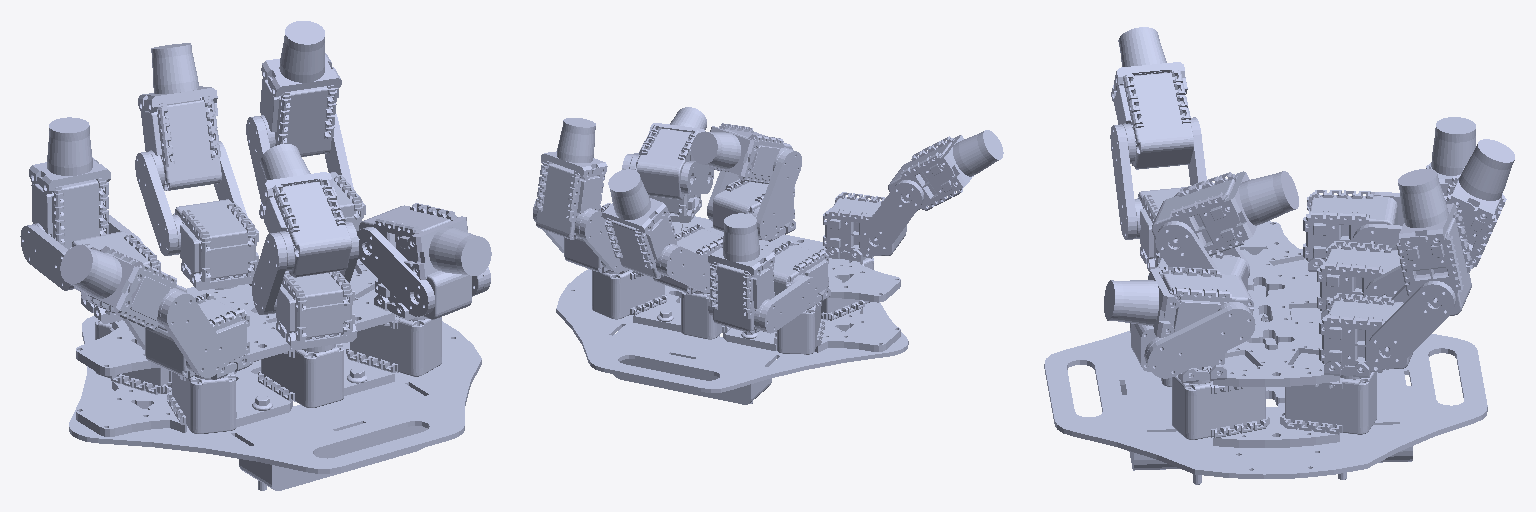
--- What the picture shows (computed from the rendered views, not written in the file) ---
3 views of the same robot in one strip: view 1: azimuth 30°, elevation 25°; view 2: azimuth 150°, elevation 25°; view 3: azimuth 270°, elevation 25° (orthographic).
Model Coba_robot with 19 links and 18 joints (5 continuous, 13 fixed), rooted at base_link, posed every joint at zero.
Visible links, largest first — view 1: base_link, Kaki 5_3, Kaki 5_2, Kaki 2_3, Kaki 4_3, Kaki 6_3, Kaki 1_2, Kaki_2_1, Kaki 1_3, Kaki 3_3, Kaki 3_2, Kaki 2 (+6 smaller); view 2: base_link, Kaki 4_3, Kaki 6_3, Kaki 5_3, Kaki 1_2, Kaki 1_3, Kaki_2_1, Kaki 6_2, Kaki 3_3, Kaki 2_3, Kaki 5_2, Kaki 4 (+5 smaller); view 3: base_link, Kaki 1_3, Kaki 4_2, Kaki 2_3, Kaki 4_3, Kaki 3_3, Kaki 3, Kaki 4, Kaki 6_2, Kaki 3_2, Kaki 5_3, Kaki 5_2 (+4 smaller).
Link boxes in pixels (bbox=[...]): base_link: bbox=[69, 258, 481, 490]; Kaki 5_3: bbox=[138, 43, 221, 190]; Kaki 5_2: bbox=[135, 141, 258, 282]; Kaki 2_3: bbox=[259, 144, 351, 277]; Kaki 4_3: bbox=[260, 21, 341, 156]; Kaki 6_3: bbox=[29, 117, 110, 249]; Kaki 1_2: bbox=[123, 291, 249, 377]; Kaki_2_1: bbox=[252, 222, 358, 341]; Kaki 1_3: bbox=[60, 245, 186, 330]; Kaki 3_3: bbox=[359, 203, 491, 279]; Kaki 3_2: bbox=[357, 205, 490, 319]; Kaki 2: bbox=[258, 320, 356, 407]; base_link: bbox=[556, 216, 908, 404]; Kaki 4_3: bbox=[535, 118, 607, 239]; Kaki 6_3: bbox=[708, 213, 774, 333]; Kaki 5_3: bbox=[602, 169, 677, 278]; Kaki 1_2: bbox=[823, 180, 923, 257]; Kaki 1_3: bbox=[888, 130, 1003, 210]; Kaki_2_1: bbox=[707, 149, 801, 240]; Kaki 6_2: bbox=[708, 240, 828, 333]; Kaki 3_3: bbox=[629, 107, 706, 199]; Kaki 2_3: bbox=[691, 123, 792, 183]; Kaki 5_2: bbox=[618, 223, 722, 293]; Kaki 4: bbox=[592, 268, 666, 319]; base_link: bbox=[1044, 221, 1487, 484]; Kaki 1_3: bbox=[1111, 27, 1193, 169]; Kaki 4_2: bbox=[1319, 262, 1469, 372]; Kaki 2_3: bbox=[1152, 171, 1298, 255]; Kaki 4_3: bbox=[1396, 169, 1472, 315]; Kaki 3_3: bbox=[1104, 266, 1253, 337]; Kaki 3: bbox=[1172, 355, 1269, 439]; Kaki 4: bbox=[1280, 353, 1376, 434]; Kaki 6_2: bbox=[1303, 190, 1403, 263]; Kaki 3_2: bbox=[1130, 274, 1255, 378]; Kaki 5_3: bbox=[1444, 139, 1514, 267]; Kaki 5_2: bbox=[1317, 241, 1407, 311].
Size in the robot's own frame: 0.2885 by 0.2592 by 0.2051 metres.
Meshes: 19 distinct files referenced, 19 mesh visuals loaded (19 binary STL).

URDF robot description (Coba_robot):
<?xml version="1.0" encoding="utf-8"?>
<!-- This URDF was automatically created by SolidWorks to URDF Exporter! Originally created by Stephen Brawner ([email redacted]) 
     Commit Version: 1.6.0-1-g15f4949  Build Version: 1.6.7594.29634
     For more information, please see http://wiki.ros.org/sw_urdf_exporter -->
<robot
  name="Coba_robot">
  <link
    name="base_link">
    <inertial>
      <origin
        xyz="0.0955210088112188 0.128829739596271 -0.111510795146166"
        rpy="0 0 0" />
      <mass
        value="0.374618332010128" />
      <inertia
        ixx="0.000448929556780063"
        ixy="-2.04455997946797E-15"
        ixz="2.97490932378823E-05"
        iyy="0.00126371737945785"
        iyz="7.8173467267558E-16"
        izz="0.000835575872446296" />
    </inertial>
    <visual>
      <origin
        xyz="0 0 0"
        rpy="0 0 0" />
      <geometry>
        <mesh
          filename="package://Coba_robot/meshes/base_link.STL" />
      </geometry>
      <material
        name="">
        <color
          rgba="0.792156862745098 0.819607843137255 0.933333333333333 1" />
      </material>
    </visual>
    <collision>
      <origin
        xyz="0 0 0"
        rpy="0 0 0" />
      <geometry>
        <mesh
          filename="package://Coba_robot/meshes/base_link.STL" />
      </geometry>
    </collision>
  </link>
  <link
    name="Kaki 1">
    <inertial>
      <origin
        xyz="0.0117264096319723 -1.0687480350921E-06 -0.0162238731352485"
        rpy="0 0 0" />
      <mass
        value="0.0459766729637116" />
      <inertia
        ixx="3.80908959439166E-06"
        ixy="1.13405655437806E-07"
        ixz="2.9516492743732E-08"
        iyy="9.12735150093024E-06"
        iyz="-1.12615456063392E-10"
        izz="1.06463676928076E-05" />
    </inertial>
    <visual>
      <origin
        xyz="0 0 0"
        rpy="0 0 0" />
      <geometry>
        <mesh
          filename="package://Coba_robot/meshes/Kaki 1.STL" />
      </geometry>
      <material
        name="">
        <color
          rgba="0.792156862745098 0.819607843137255 0.933333333333333 1" />
      </material>
    </visual>
    <collision>
      <origin
        xyz="0 0 0"
        rpy="0 0 0" />
      <geometry>
        <mesh
          filename="package://Coba_robot/meshes/Kaki 1.STL" />
      </geometry>
    </collision>
  </link>
  <joint
    name="11"
    type="fixed">
    <origin
      xyz="0.0313968730221693 0.0637515761987747 0.138225076212438"
      rpy="3.14159265358979 0 1.29804330499791" />
    <parent
      link="base_link" />
    <child
      link="Kaki 1" />
    <axis
      xyz="0 0 0" />
  </joint>
  <link
    name="Kaki 1_2">
    <inertial>
      <origin
        xyz="0.00720663762632177 0.00388241641337603 0.00166600998765189"
        rpy="0 0 0" />
      <mass
        value="0.0550012449425468" />
      <inertia
        ixx="6.15632429667315E-06"
        ixy="1.41064633745967E-06"
        ixz="-2.95775598117591E-08"
        iyy="1.01627471260802E-05"
        iyz="8.19605559848041E-15"
        izz="1.3999303699423E-05" />
    </inertial>
    <visual>
      <origin
        xyz="0 0 0"
        rpy="0 0 0" />
      <geometry>
        <mesh
          filename="package://Coba_robot/meshes/Kaki 1_2.STL" />
      </geometry>
      <material
        name="">
        <color
          rgba="0.792156862745098 0.819607843137255 0.933333333333333 1" />
      </material>
    </visual>
    <collision>
      <origin
        xyz="0 0 0"
        rpy="0 0 0" />
      <geometry>
        <mesh
          filename="package://Coba_robot/meshes/Kaki 1_2.STL" />
      </geometry>
    </collision>
  </link>
  <joint
    name="12"
    type="fixed">
    <origin
      xyz="-0.0108401188099666 -0.0200013580608149 -0.0532499999982003"
      rpy="-1.57079632679489 0 1.07413974500931" />
    <parent
      link="Kaki 1" />
    <child
      link="Kaki 1_2" />
    <axis
      xyz="0 0 0" />
  </joint>
  <link
    name="Kaki 1_3">
    <inertial>
      <origin
        xyz="0.0219631417411719 -8.28462301531718E-07 0.000895982205306671"
        rpy="0 0 0" />
      <mass
        value="0.0569382188830977" />
      <inertia
        ixx="4.97477859840598E-06"
        ixy="-1.38076293275694E-10"
        ixz="-2.95782821506786E-08"
        iyy="1.01414200280578E-05"
        iyz="9.09661102242449E-15"
        izz="1.11481951911747E-05" />
    </inertial>
    <visual>
      <origin
        xyz="0 0 0"
        rpy="0 0 0" />
      <geometry>
        <mesh
          filename="package://Coba_robot/meshes/Kaki 1_3.STL" />
      </geometry>
      <material
        name="">
        <color
          rgba="0.792156862745098 0.819607843137255 0.933333333333333 1" />
      </material>
    </visual>
    <collision>
      <origin
        xyz="0 0 0"
        rpy="0 0 0" />
      <geometry>
        <mesh
          filename="package://Coba_robot/meshes/Kaki 1_3.STL" />
      </geometry>
    </collision>
  </link>
  <joint
    name="13"
    type="continuous">
    <origin
      xyz="-0.0233544016161321 0.0349080495752942 0"
      rpy="0 0 1.83013105284461" />
    <parent
      link="Kaki 1_2" />
    <child
      link="Kaki 1_3" />
    <axis
      xyz="0 0 1" />
  </joint>
  <link
    name="Kaki 2">
    <inertial>
      <origin
        xyz="0.0117281719901688 -3.20169534495651E-07 -0.0107761271901022"
        rpy="0 0 0" />
      <mass
        value="0.045976673740398" />
      <inertia
        ixx="4.00034324518149E-06"
        ixy="-6.74083314669933E-08"
        ixz="-2.97013283241805E-08"
        iyy="8.93609800445544E-06"
        iyz="3.30135871801989E-11"
        izz="1.06463678356939E-05" />
    </inertial>
    <visual>
      <origin
        xyz="0 0 0"
        rpy="0 0 0" />
      <geometry>
        <mesh
          filename="package://Coba_robot/meshes/Kaki 2.STL" />
      </geometry>
      <material
        name="">
        <color
          rgba="0.792156862745098 0.819607843137255 0.933333333333333 1" />
      </material>
    </visual>
    <collision>
      <origin
        xyz="0 0 0"
        rpy="0 0 0" />
      <geometry>
        <mesh
          filename="package://Coba_robot/meshes/Kaki 2.STL" />
      </geometry>
    </collision>
  </link>
  <joint
    name="21"
    type="fixed">
    <origin
      xyz="0.0996549434093814 0.0651916390244269 0.165225076212438"
      rpy="0 0 1.64710915539677" />
    <parent
      link="base_link" />
    <child
      link="Kaki 2" />
    <axis
      xyz="0 0 0" />
  </joint>
  <link
    name="Kaki_2_1">
    <inertial>
      <origin
        xyz="0.0136236802209293 0.00268598866703232 0.00166600984116806"
        rpy="0 0 0" />
      <mass
        value="0.0550012454240305" />
      <inertia
        ixx="5.05863921841792E-06"
        ixy="-1.43626145191625E-06"
        ixz="-2.95775653466656E-08"
        iyy="1.1260432298044E-05"
        iyz="7.22686350663354E-15"
        izz="1.39993037941083E-05" />
    </inertial>
    <visual>
      <origin
        xyz="0 0 0"
        rpy="0 0 0" />
      <geometry>
        <mesh
          filename="package://Coba_robot/meshes/Kaki_2_1.STL" />
      </geometry>
      <material
        name="">
        <color
          rgba="0.792156862745098 0.819607843137255 0.933333333333333 1" />
      </material>
    </visual>
    <collision>
      <origin
        xyz="0 0 0"
        rpy="0 0 0" />
      <geometry>
        <mesh
          filename="package://Coba_robot/meshes/Kaki_2_1.STL" />
      </geometry>
    </collision>
  </link>
  <joint
    name="22"
    type="fixed">
    <origin
      xyz="0.0219816543840897 -0.00586253960578838 0.0262499999982"
      rpy="1.5707963267949 0 2.88095776656319" />
    <parent
      link="Kaki 2" />
    <child
      link="Kaki_2_1" />
    <axis
      xyz="0 0 0" />
  </joint>
  <link
    name="Kaki 2_3">
    <inertial>
      <origin
        xyz="-0.0111263882592733 0.0189357412488982 -0.0198540164373166"
        rpy="0 0 0" />
      <mass
        value="0.0569382191379837" />
      <inertia
        ixx="8.81508569138267E-06"
        ixy="2.2568853942459E-06"
        ixz="1.49852435608981E-08"
        iyy="6.301113028032E-06"
        iyz="-2.55004193536201E-08"
        izz="1.11481953070983E-05" />
    </inertial>
    <visual>
      <origin
        xyz="0 0 0"
        rpy="0 0 0" />
      <geometry>
        <mesh
          filename="package://Coba_robot/meshes/Kaki 2_3.STL" />
      </geometry>
      <material
        name="">
        <color
          rgba="0.792156862745098 0.819607843137255 0.933333333333333 1" />
      </material>
    </visual>
    <collision>
      <origin
        xyz="0 0 0"
        rpy="0 0 0" />
      <geometry>
        <mesh
          filename="package://Coba_robot/meshes/Kaki 2_3.STL" />
      </geometry>
    </collision>
  </link>
  <joint
    name="23"
    type="fixed">
    <origin
      xyz="0.0343545625626959 0.0241620784495247 0.0207500000000003"
      rpy="0 0 0.612861006640973" />
    <parent
      link="Kaki_2_1" />
    <child
      link="Kaki 2_3" />
    <axis
      xyz="0 0 0" />
  </joint>
  <link
    name="Kaki 3">
    <inertial>
      <origin
        xyz="0.0117257955097682 2.43019542350842E-07 0.00272387295111298"
        rpy="0 0 0" />
      <mass
        value="0.0459766733747581" />
      <inertia
        ixx="4.00712748527306E-06"
        ixy="-5.38986916642589E-08"
        ixz="-2.94521265133506E-08"
        iyy="8.92931371121269E-06"
        iyz="-2.60437718435383E-11"
        izz="1.06463677855161E-05" />
    </inertial>
    <visual>
      <origin
        xyz="0 0 0"
        rpy="0 0 0" />
      <geometry>
        <mesh
          filename="package://Coba_robot/meshes/Kaki 3.STL" />
      </geometry>
      <material
        name="">
        <color
          rgba="0.792156862745098 0.819607843137255 0.933333333333333 1" />
      </material>
    </visual>
    <collision>
      <origin
        xyz="0 0 0"
        rpy="0 0 0" />
      <geometry>
        <mesh
          filename="package://Coba_robot/meshes/Kaki 3.STL" />
      </geometry>
    </collision>
  </link>
  <joint
    name="31"
    type="fixed">
    <origin
      xyz="0.167338472190558 0.0741458495231372 0.151725076212438"
      rpy="0 0 1.99617500579563" />
    <parent
      link="base_link" />
    <child
      link="Kaki 3" />
    <axis
      xyz="0 0 0" />
  </joint>
  <link
    name="Kaki 3_2">
    <inertial>
      <origin
        xyz="0.0120306630890009 -0.00449951658599376 -0.0130971697126351"
        rpy="0 0 0" />
      <mass
        value="0.0472026139173069" />
      <inertia
        ixx="5.63104552430371E-06"
        ixy="1.41905662757946E-06"
        ixz="-5.49872224279449E-09"
        iyy="8.85118438956662E-06"
        iyz="-8.64314375891294E-14"
        izz="1.22280015141294E-05" />
    </inertial>
    <visual>
      <origin
        xyz="0 0 0"
        rpy="0 0 0" />
      <geometry>
        <mesh
          filename="package://Coba_robot/meshes/Kaki 3_2.STL" />
      </geometry>
      <material
        name="">
        <color
          rgba="0.792156862745098 0.819607843137255 0.933333333333333 1" />
      </material>
    </visual>
    <collision>
      <origin
        xyz="0 0 0"
        rpy="0 0 0" />
      <geometry>
        <mesh
          filename="package://Coba_robot/meshes/Kaki 3_2.STL" />
      </geometry>
    </collision>
  </link>
  <joint
    name="32"
    type="fixed">
    <origin
      xyz="-0.0195298138586388 0.0178437347769987 0.0397499999982"
      rpy="-1.5707963267949 0 -0.204757195318116" />
    <parent
      link="Kaki 3" />
    <child
      link="Kaki 3_2" />
    <axis
      xyz="0 0 0" />
  </joint>
  <link
    name="Kaki 3_3">
    <inertial>
      <origin
        xyz="0.0219620052084269 1.23470630666866E-06 -0.0143959823159015"
        rpy="0 0 0" />
      <mass
        value="0.0569382191511846" />
      <inertia
        ixx="4.97477862013397E-06"
        ixy="1.37868115076886E-10"
        ixz="2.95781803517955E-08"
        iyy="1.01414200491212E-05"
        iyz="1.01641835029357E-14"
        izz="1.11481952438659E-05" />
    </inertial>
    <visual>
      <origin
        xyz="0 0 0"
        rpy="0 0 0" />
      <geometry>
        <mesh
          filename="package://Coba_robot/meshes/Kaki 3_3.STL" />
      </geometry>
      <material
        name="">
        <color
          rgba="0.792156862745098 0.819607843137255 0.933333333333333 1" />
      </material>
    </visual>
    <collision>
      <origin
        xyz="0 0 0"
        rpy="0 0 0" />
      <geometry>
        <mesh
          filename="package://Coba_robot/meshes/Kaki 3_3.STL" />
      </geometry>
    </collision>
  </link>
  <joint
    name="33"
    type="continuous">
    <origin
      xyz="0.0236174866570732 -0.0347305963669316 0"
      rpy="0 0 -2.97667305343781" />
    <parent
      link="Kaki 3_2" />
    <child
      link="Kaki 3_3" />
    <axis
      xyz="0 0 1" />
  </joint>
  <link
    name="Kaki 4">
    <inertial>
      <origin
        xyz="0.0117257748616748 -1.13187115902136E-07 0.00272387313524841"
        rpy="0 0 0" />
      <mass
        value="0.0459766729637116" />
      <inertia
        ixx="4.01620711458434E-06"
        ixy="2.38022831001732E-08"
        ixz="-2.94499318853841E-08"
        iyy="8.92023398073755E-06"
        iyz="1.13200682820849E-11"
        izz="1.06463676928076E-05" />
    </inertial>
    <visual>
      <origin
        xyz="0 0 0"
        rpy="0 0 0" />
      <geometry>
        <mesh
          filename="package://Coba_robot/meshes/Kaki 4.STL" />
      </geometry>
      <material
        name="">
        <color
          rgba="0.792156862745098 0.819607843137255 0.933333333333333 1" />
      </material>
    </visual>
    <collision>
      <origin
        xyz="0 0 0"
        rpy="0 0 0" />
      <geometry>
        <mesh
          filename="package://Coba_robot/meshes/Kaki 4.STL" />
      </geometry>
    </collision>
  </link>
  <joint
    name="41"
    type="fixed">
    <origin
      xyz="0.160822807226165 0.159361033621577 0.151725076212438"
      rpy="0 0 -1.84354934859189" />
    <parent
      link="base_link" />
    <child
      link="Kaki 4" />
    <axis
      xyz="0 0 0" />
  </joint>
  <link
    name="Kaki 4_2">
    <inertial>
      <origin
        xyz="0.0100211163781045 -0.00466537644711285 -0.0151660098411677"
        rpy="0 0 0" />
      <mass
        value="0.0550012454240305" />
      <inertia
        ixx="7.0937294894296E-06"
        ixy="1.4150520304366E-07"
        ixz="2.95775653466772E-08"
        iyy="9.22534202703231E-06"
        iyz="7.22682073645274E-15"
        izz="1.39993037941083E-05" />
    </inertial>
    <visual>
      <origin
        xyz="0 0 0"
        rpy="0 0 0" />
      <geometry>
        <mesh
          filename="package://Coba_robot/meshes/Kaki 4_2.STL" />
      </geometry>
      <material
        name="">
        <color
          rgba="0.792156862745098 0.819607843137255 0.933333333333333 1" />
      </material>
    </visual>
    <collision>
      <origin
        xyz="0 0 0"
        rpy="0 0 0" />
      <geometry>
        <mesh
          filename="package://Coba_robot/meshes/Kaki 4_2.STL" />
      </geometry>
    </collision>
  </link>
  <joint
    name="42"
    type="fixed">
    <origin
      xyz="-0.0238533677175906 0.0114380657750523 0.0397499999981997"
      rpy="-1.5707963267949 0 0.0884309633722633" />
    <parent
      link="Kaki 4" />
    <child
      link="Kaki 4_2" />
    <axis
      xyz="0 0 0" />
  </joint>
  <link
    name="Kaki 4_3">
    <inertial>
      <origin
        xyz="0.0219630833473997 -4.19331268763923E-07 0.0143959836135167"
        rpy="0 0 0" />
      <mass
        value="0.0569382188663184" />
      <inertia
        ixx="4.97477858942119E-06"
        ixy="-1.3894007057671E-10"
        ixz="-2.95775225234791E-08"
        iyy="1.01414200325851E-05"
        iyz="1.07685203349779E-14"
        izz="1.11481951979658E-05" />
    </inertial>
    <visual>
      <origin
        xyz="0 0 0"
        rpy="0 0 0" />
      <geometry>
        <mesh
          filename="package://Coba_robot/meshes/Kaki 4_3.STL" />
      </geometry>
      <material
        name="">
        <color
          rgba="0.792156862745098 0.819607843137255 0.933333333333333 1" />
      </material>
    </visual>
    <collision>
      <origin
        xyz="0 0 0"
        rpy="0 0 0" />
      <geometry>
        <mesh
          filename="package://Coba_robot/meshes/Kaki 4_3.STL" />
      </geometry>
    </collision>
  </link>
  <joint
    name="43"
    type="continuous">
    <origin
      xyz="0.00195413927528532 -0.0419545151474348 0"
      rpy="-3.14159265358979 0 -1.36535209829523" />
    <parent
      link="Kaki 4_2" />
    <child
      link="Kaki 4_3" />
    <axis
      xyz="0 0 1" />
  </joint>
  <link
    name="Kaki 5">
    <inertial>
      <origin
        xyz="0.0117258112223196 3.09450635532782E-07 0.00272387280989789"
        rpy="0 0 0" />
      <mass
        value="0.045976673740398" />
      <inertia
        ixx="4.0003432451815E-06"
        ixy="-6.74083314670085E-08"
        ixz="-2.94537825785383E-08"
        iyy="8.93609800445546E-06"
        iyz="-3.30072582339408E-11"
        izz="1.06463678356939E-05" />
    </inertial>
    <visual>
      <origin
        xyz="0 0 0"
        rpy="0 0 0" />
      <geometry>
        <mesh
          filename="package://Coba_robot/meshes/Kaki 5.STL" />
      </geometry>
      <material
        name="">
        <color
          rgba="0.792156862745098 0.819607843137255 0.933333333333333 1" />
      </material>
    </visual>
    <collision>
      <origin
        xyz="0 0 0"
        rpy="0 0 0" />
      <geometry>
        <mesh
          filename="package://Coba_robot/meshes/Kaki 5.STL" />
      </geometry>
    </collision>
  </link>
  <joint
    name="51"
    type="fixed">
    <origin
      xyz="0.0925647368389534 0.157920970795924 0.151725076212438"
      rpy="0 0 -1.49448349819303" />
    <parent
      link="base_link" />
    <child
      link="Kaki 5" />
    <axis
      xyz="0 0 0" />
  </joint>
  <link
    name="Kaki 5_2">
    <inertial>
      <origin
        xyz="0.00857467510256843 0.00450616334847229 0.00166600984116795"
        rpy="0 0 0" />
      <mass
        value="0.0550012454240305" />
      <inertia
        ixx="6.88875924752487E-06"
        ixy="7.75159201670539E-07"
        ixz="-2.95775653466723E-08"
        iyy="9.43031226893702E-06"
        iyz="7.2268390220874E-15"
        izz="1.39993037941083E-05" />
    </inertial>
    <visual>
      <origin
        xyz="0 0 0"
        rpy="0 0 0" />
      <geometry>
        <mesh
          filename="package://Coba_robot/meshes/Kaki 5_2.STL" />
      </geometry>
      <material
        name="">
        <color
          rgba="0.792156862745098 0.819607843137255 0.933333333333333 1" />
      </material>
    </visual>
    <collision>
      <origin
        xyz="0 0 0"
        rpy="0 0 0" />
      <geometry>
        <mesh
          filename="package://Coba_robot/meshes/Kaki 5_2.STL" />
      </geometry>
    </collision>
  </link>
  <joint
    name="52"
    type="fixed">
    <origin
      xyz="-0.0219816543840911 0.00586253960578612 0.0397499999981998"
      rpy="1.57079632679491 0 -0.260634887026601" />
    <parent
      link="Kaki 5" />
    <child
      link="Kaki 5_2" />
    <axis
      xyz="0 0 0" />
  </joint>
  <link
    name="Kaki 5_3">
    <inertial>
      <origin
        xyz="0.0219632210242148 -5.51064706449944E-07 0.000895983381377301"
        rpy="0 0 0" />
      <mass
        value="0.0569382197137765" />
      <inertia
        ixx="4.9747786229357E-06"
        ixy="-1.38887766558503E-10"
        ixz="-2.95775301662961E-08"
        iyy="1.01414202173941E-05"
        iyz="6.15657099157049E-15"
        izz="1.11481954189791E-05" />
    </inertial>
    <visual>
      <origin
        xyz="0 0 0"
        rpy="0 0 0" />
      <geometry>
        <mesh
          filename="package://Coba_robot/meshes/Kaki 5_3.STL" />
      </geometry>
      <material
        name="">
        <color
          rgba="0.792156862745098 0.819607843137255 0.933333333333333 1" />
      </material>
    </visual>
    <collision>
      <origin
        xyz="0 0 0"
        rpy="0 0 0" />
      <geometry>
        <mesh
          filename="package://Coba_robot/meshes/Kaki 5_3.STL" />
      </geometry>
    </collision>
  </link>
  <joint
    name="53"
    type="continuous">
    <origin
      xyz="-0.0110527642471299 0.0405195805020215 0"
      rpy="0 0 1.94878589573245" />
    <parent
      link="Kaki 5_2" />
    <child
      link="Kaki 5_3" />
    <axis
      xyz="0 0 1" />
  </joint>
  <link
    name="Kaki 6">
    <inertial>
      <origin
        xyz="0.0117259204129747 5.81904643068287E-07 0.00272387295111309"
        rpy="0 0 0" />
      <mass
        value="0.0459766733747582" />
      <inertia
        ixx="3.95576245122326E-06"
        ixy="-1.14114189101881E-07"
        ixz="-2.9465223638192E-08"
        iyy="8.98067874526251E-06"
        iyz="-6.15786352775049E-11"
        izz="1.06463677855161E-05" />
    </inertial>
    <visual>
      <origin
        xyz="0 0 0"
        rpy="0 0 0" />
      <geometry>
        <mesh
          filename="package://Coba_robot/meshes/Kaki 6.STL" />
      </geometry>
      <material
        name="">
        <color
          rgba="0.792156862745098 0.819607843137255 0.933333333333333 1" />
      </material>
    </visual>
    <collision>
      <origin
        xyz="0 0 0"
        rpy="0 0 0" />
      <geometry>
        <mesh
          filename="package://Coba_robot/meshes/Kaki 6.STL" />
      </geometry>
    </collision>
  </link>
  <joint
    name="61"
    type="fixed">
    <origin
      xyz="0.0248812080577764 0.148966760297214 0.151725076212438"
      rpy="0 0 -1.14541764779417" />
    <parent
      link="base_link" />
    <child
      link="Kaki 6" />
    <axis
      xyz="0 0 0" />
  </joint>
  <link
    name="Kaki 6_2">
    <inertial>
      <origin
        xyz="0.00528006141462992 0.00116552238257572 0.00166600966912084"
        rpy="0 0 0" />
      <mass
        value="0.0550012460711655" />
      <inertia
        ixx="4.2378614415098E-06"
        ixy="7.36651862976314E-07"
        ixz="-2.95775589628405E-08"
        iyy="1.2081210238632E-05"
        iyz="5.3712382402999E-15"
        izz="1.39993039681442E-05" />
    </inertial>
    <visual>
      <origin
        xyz="0 0 0"
        rpy="0 0 0" />
      <geometry>
        <mesh
          filename="package://Coba_robot/meshes/Kaki 6_2.STL" />
      </geometry>
      <material
        name="">
        <color
          rgba="0.792156862745098 0.819607843137255 0.933333333333333 1" />
      </material>
    </visual>
    <collision>
      <origin
        xyz="0 0 0"
        rpy="0 0 0" />
      <geometry>
        <mesh
          filename="package://Coba_robot/meshes/Kaki 6_2.STL" />
      </geometry>
    </collision>
  </link>
  <joint
    name="62"
    type="fixed">
    <origin
      xyz="-0.0199487557869358 0.0109366193425668 0.0397499999982001"
      rpy="1.5707963267949 0 -0.501487623908419" />
    <parent
      link="Kaki 6" />
    <child
      link="Kaki 6_2" />
    <axis
      xyz="0 0 0" />
  </joint>
  <link
    name="Kaki 6_3">
    <inertial>
      <origin
        xyz="0.0219621056522477 -5.62426581918185E-07 0.000895982059166009"
        rpy="0 0 0" />
      <mass
        value="0.0569382196471864" />
      <inertia
        ixx="4.97477860495473E-06"
        ixy="-1.38091121084429E-10"
        ixz="-2.95782469136682E-08"
        iyy="1.01414202232189E-05"
        iyz="8.62460434778676E-15"
        izz="1.11481954209746E-05" />
    </inertial>
    <visual>
      <origin
        xyz="0 0 0"
        rpy="0 0 0" />
      <geometry>
        <mesh
          filename="package://Coba_robot/meshes/Kaki 6_3.STL" />
      </geometry>
      <material
        name="">
        <color
          rgba="0.792156862745098 0.819607843137255 0.933333333333333 1" />
      </material>
    </visual>
    <collision>
      <origin
        xyz="0 0 0"
        rpy="0 0 0" />
      <geometry>
        <mesh
          filename="package://Coba_robot/meshes/Kaki 6_3.STL" />
      </geometry>
    </collision>
  </link>
  <joint
    name="63"
    type="continuous">
    <origin
      xyz="-0.0406734108687668 0.0104725187926867 0"
      rpy="0 0 1.18364807519028" />
    <parent
      link="Kaki 6_2" />
    <child
      link="Kaki 6_3" />
    <axis
      xyz="0 0 1" />
  </joint>
</robot>
